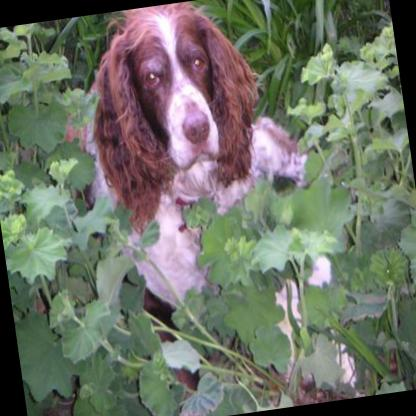English_springer: (62, 0, 399, 416)
